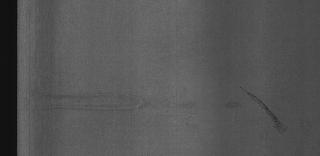water spot: (240, 86, 296, 138)
